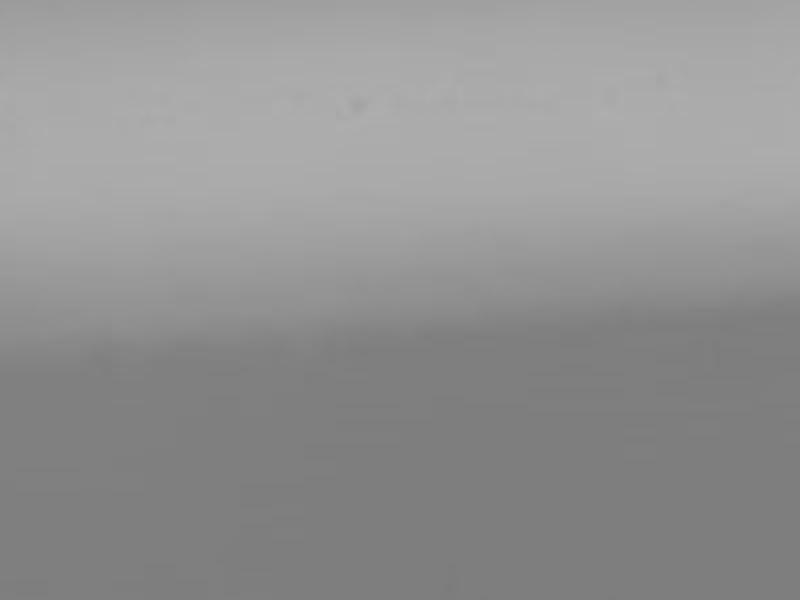defect: (349, 90, 371, 115)
